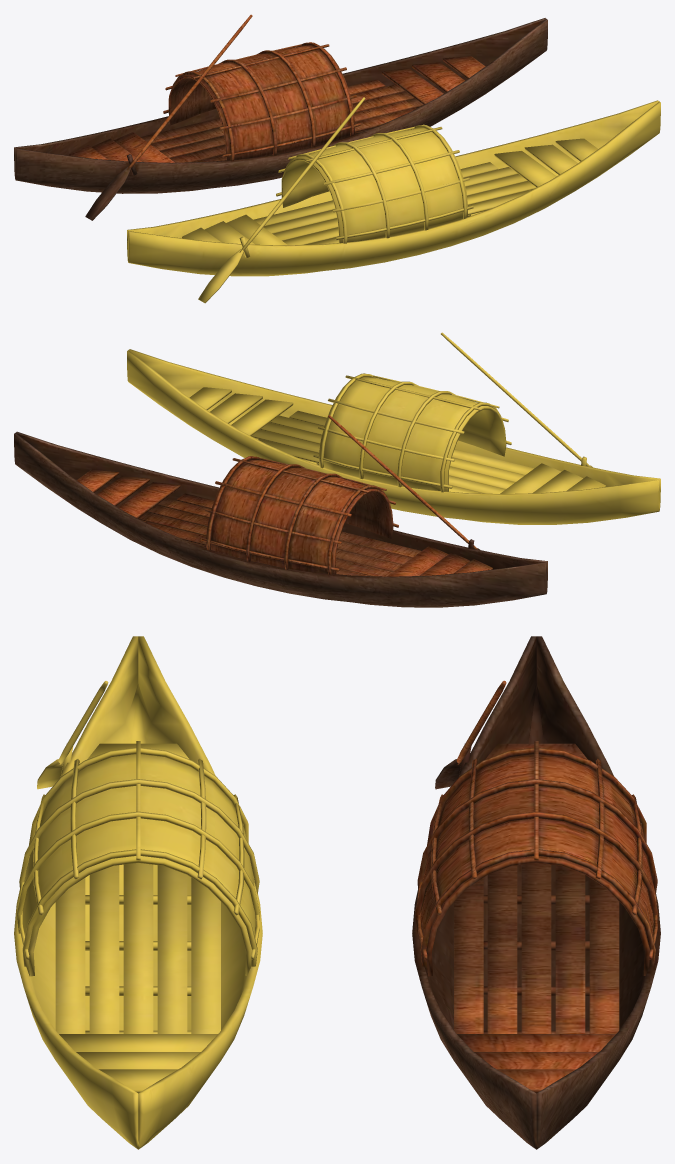
File: nouka.glb
3 renders of one model, top to bottom at view 1: azimuth 30°, elevation 25°; view 2: azimuth 150°, elevation 25°; view 3: azimuth 270°, elevation 25°, orthographic. The views are drawn at different scales.
Visible parts, largest first — view 1: Boat_Hull_Main.001, Boat_Hull_Main, Boat_Bamboo_Choi.001, Boat_Bamboo_Choi, Boat_Interior_Deck_And_Ribs.013, Boat_Interior_Deck_And_Ribs.017, Boat_Wooden_Oar, Boat_Wooden_Oar.001, Boat_Interior_Deck_And_Ribs.004, Boat_Interior_Deck_And_Ribs.008, Boat_Interior_Deck_And_Ribs.009, Boat_Interior_Deck_And_Ribs.011 (+6 smaller); view 2: Boat_Hull_Main, Boat_Hull_Main.001, Boat_Bamboo_Choi, Boat_Bamboo_Choi.001, Boat_Interior_Deck_And_Ribs.017, Boat_Interior_Deck_And_Ribs.013, Boat_Interior_Deck_And_Ribs.008, Boat_Interior_Deck_And_Ribs.004, Boat_Interior_Deck_And_Ribs.007, Boat_Interior_Deck_And_Ribs.003, Boat_Interior_Deck_And_Ribs.011, Boat_Interior_Deck_And_Ribs.009 (+6 smaller); view 3: Boat_Bamboo_Choi.001, Boat_Bamboo_Choi, Boat_Hull_Main.001, Boat_Hull_Main, Boat_Interior_Deck_And_Ribs.017, Boat_Interior_Deck_And_Ribs.013, Boat_Interior_Deck_And_Ribs.008, Boat_Interior_Deck_And_Ribs.004, Boat_Interior_Deck_And_Ribs.009, Boat_Interior_Deck_And_Ribs.011, Boat_Wooden_Oar.001, Boat_Wooden_Oar (+2 smaller).
Boxes of the visible parts, box(x1,y1,x2,y2) form: Boat_Hull_Main.001: box(127, 100, 660, 276); Boat_Hull_Main: box(14, 18, 547, 193); Boat_Bamboo_Choi.001: box(276, 124, 473, 243); Boat_Bamboo_Choi: box(163, 42, 360, 161); Boat_Interior_Deck_And_Ribs.013: box(253, 162, 536, 245); Boat_Interior_Deck_And_Ribs.017: box(140, 79, 423, 162); Boat_Wooden_Oar: box(85, 14, 252, 220); Boat_Wooden_Oar.001: box(198, 97, 365, 303); Boat_Interior_Deck_And_Ribs.004: box(494, 151, 556, 187); Boat_Interior_Deck_And_Ribs.008: box(381, 68, 443, 104); Boat_Interior_Deck_And_Ribs.009: box(412, 62, 464, 92); Boat_Interior_Deck_And_Ribs.011: box(524, 144, 577, 174); Boat_Hull_Main: box(14, 431, 547, 607); Boat_Hull_Main.001: box(127, 349, 660, 524); Boat_Bamboo_Choi: box(200, 456, 398, 574); Boat_Bamboo_Choi.001: box(313, 373, 511, 492); Boat_Interior_Deck_And_Ribs.017: box(138, 493, 421, 576); Boat_Interior_Deck_And_Ribs.013: box(251, 410, 533, 493); Boat_Interior_Deck_And_Ribs.008: box(118, 482, 180, 518); Boat_Interior_Deck_And_Ribs.004: box(231, 399, 293, 435); Boat_Interior_Deck_And_Ribs.007: box(387, 546, 448, 576); Boat_Interior_Deck_And_Ribs.003: box(500, 463, 561, 493); Boat_Interior_Deck_And_Ribs.011: box(210, 393, 262, 423); Boat_Interior_Deck_And_Ribs.009: box(97, 476, 150, 505); Boat_Bamboo_Choi.001: box(17, 741, 259, 976); Boat_Bamboo_Choi: box(415, 741, 658, 976); Boat_Hull_Main.001: box(14, 636, 262, 1149); Boat_Hull_Main: box(412, 636, 660, 1149); Boat_Interior_Deck_And_Ribs.017: box(454, 863, 619, 1033); Boat_Interior_Deck_And_Ribs.013: box(55, 863, 220, 1033); Boat_Interior_Deck_And_Ribs.008: box(457, 1034, 615, 1051); Boat_Interior_Deck_And_Ribs.004: box(59, 1034, 217, 1051); Boat_Interior_Deck_And_Ribs.009: box(474, 1052, 598, 1069); Boat_Interior_Deck_And_Ribs.011: box(76, 1052, 200, 1069); Boat_Wooden_Oar.001: box(37, 681, 108, 789); Boat_Wooden_Oar: box(435, 680, 506, 789).
Bounding box in the file's own units: 8 × 2.41 × 4.78.
2 materials, 2 textured.
